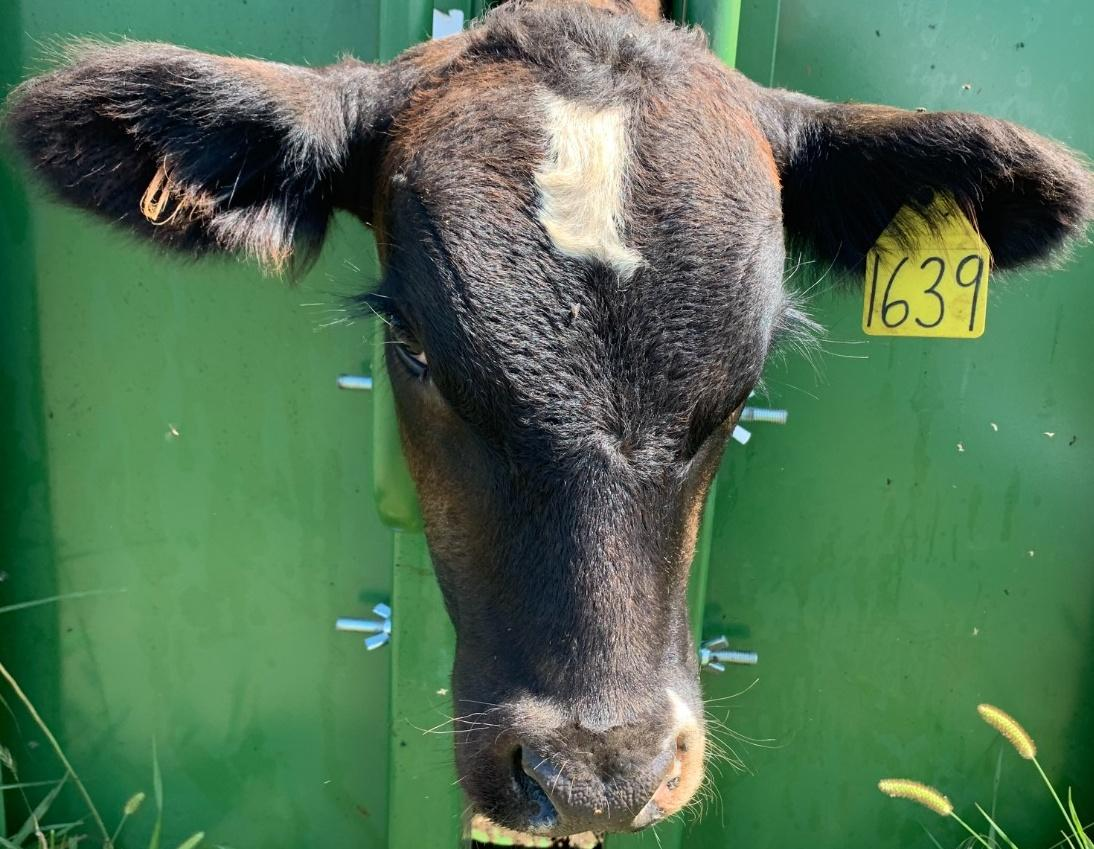muzzles: (445, 686, 716, 840)
